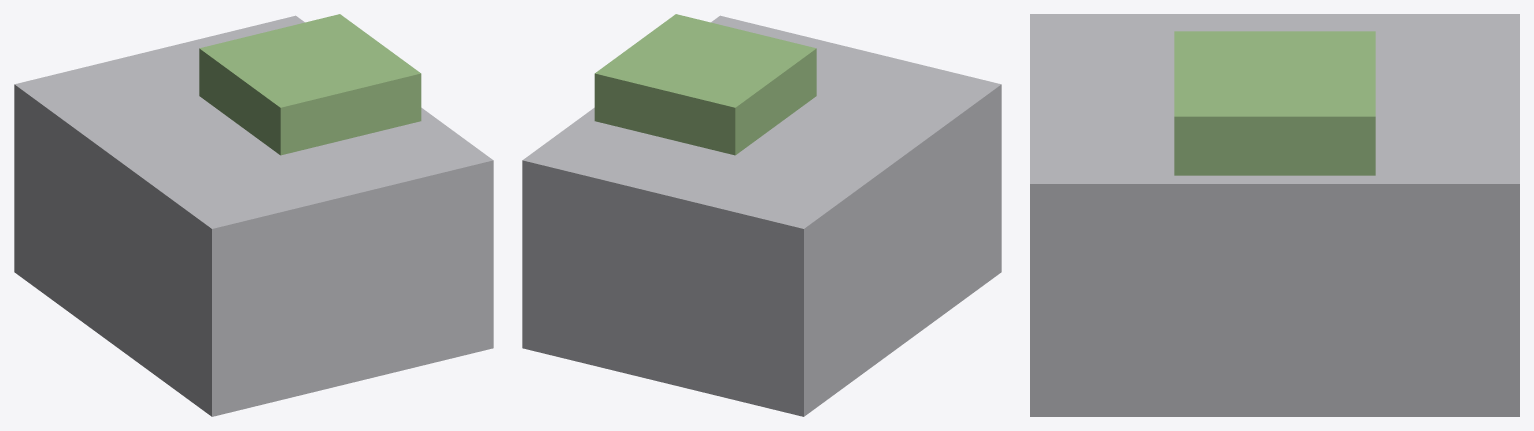
Rendered from Prop_Dress_AMF_Rock_V22.glb.
3 views of the same model, side by side, from view 1: azimuth 30°, elevation 25°; view 2: azimuth 150°, elevation 25°; view 3: azimuth 270°, elevation 25° (orthographic). The views are drawn at different scales.
Visible parts, largest first — view 1: Prop_Dress_AMF_Rock_V22; view 2: Prop_Dress_AMF_Rock_V22; view 3: Prop_Dress_AMF_Rock_V22.
Part boxes in pixels (<box>): Prop_Dress_AMF_Rock_V22: <box>14,14,493,416</box>; Prop_Dress_AMF_Rock_V22: <box>522,14,1001,416</box>; Prop_Dress_AMF_Rock_V22: <box>1030,14,1519,416</box>.
Size of the model in its own units: 0.6522 by 0.5217 by 0.7933.
